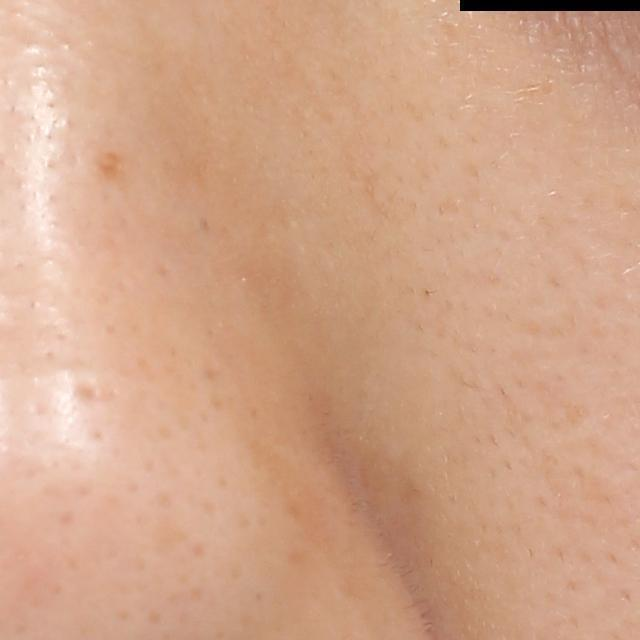melasma: (102, 148, 130, 184)
